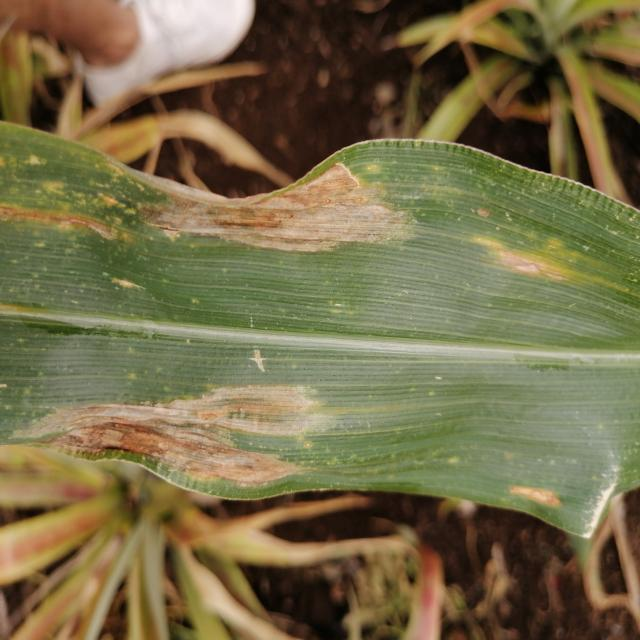Corn_Leaf_Blight: (0, 114, 640, 540)
